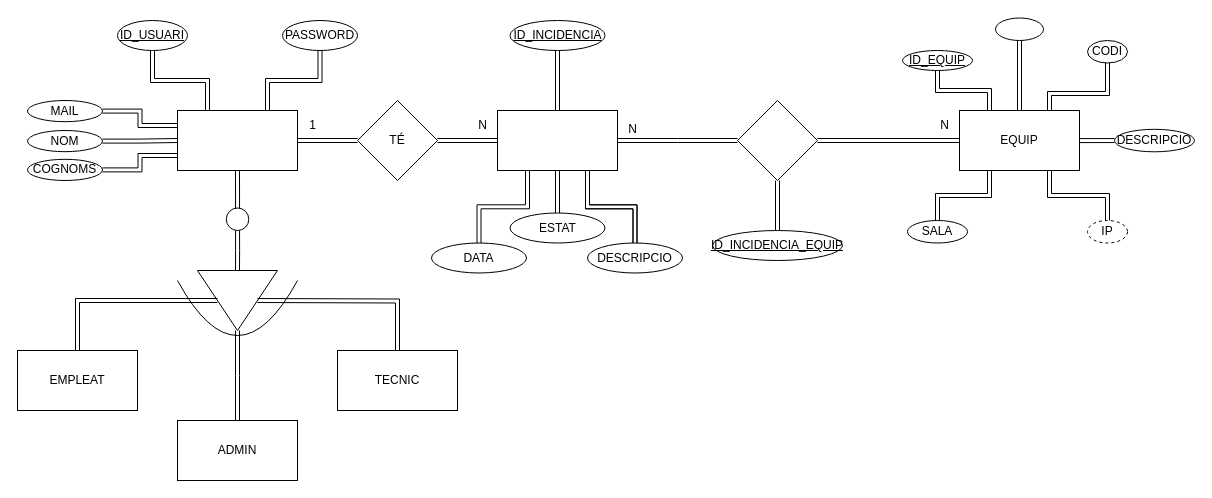
Some shapes in this 1212 by 498 pixel diagram are drawn without their labels. The shapes that lost their labels are listed below. From the top down, each one's centre as x and y in pixels, then its label:
pixel 1019 28: SO
pixel 237 140: USUARI
pixel 557 140: INCIDENCIA
pixel 777 140: CONTÉ
pixel 237 300: ROL
